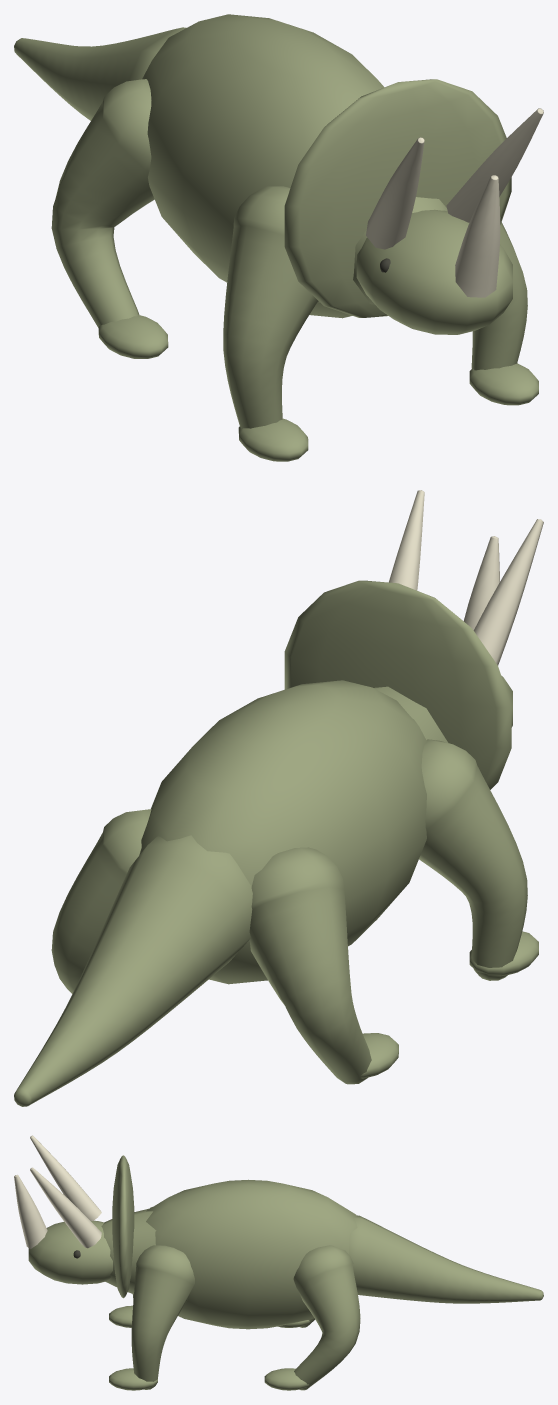
File: triceratops.glb
The picture shows the model from 3 angles, top to bottom: view 1: azimuth 30°, elevation 25°; view 2: azimuth 150°, elevation 25°; view 3: azimuth 270°, elevation 25°; orthographic projection. The views are drawn at different scales.
Visible parts, largest first — view 1: triceratops; view 2: triceratops; view 3: triceratops.
Boxes of the visible parts, x1,y1,x2,y2 form: triceratops: (14,14,543,461); triceratops: (14,490,543,1106); triceratops: (14,1135,543,1390).
Size of the model in its own units: 2.86 by 3.44 by 8.
